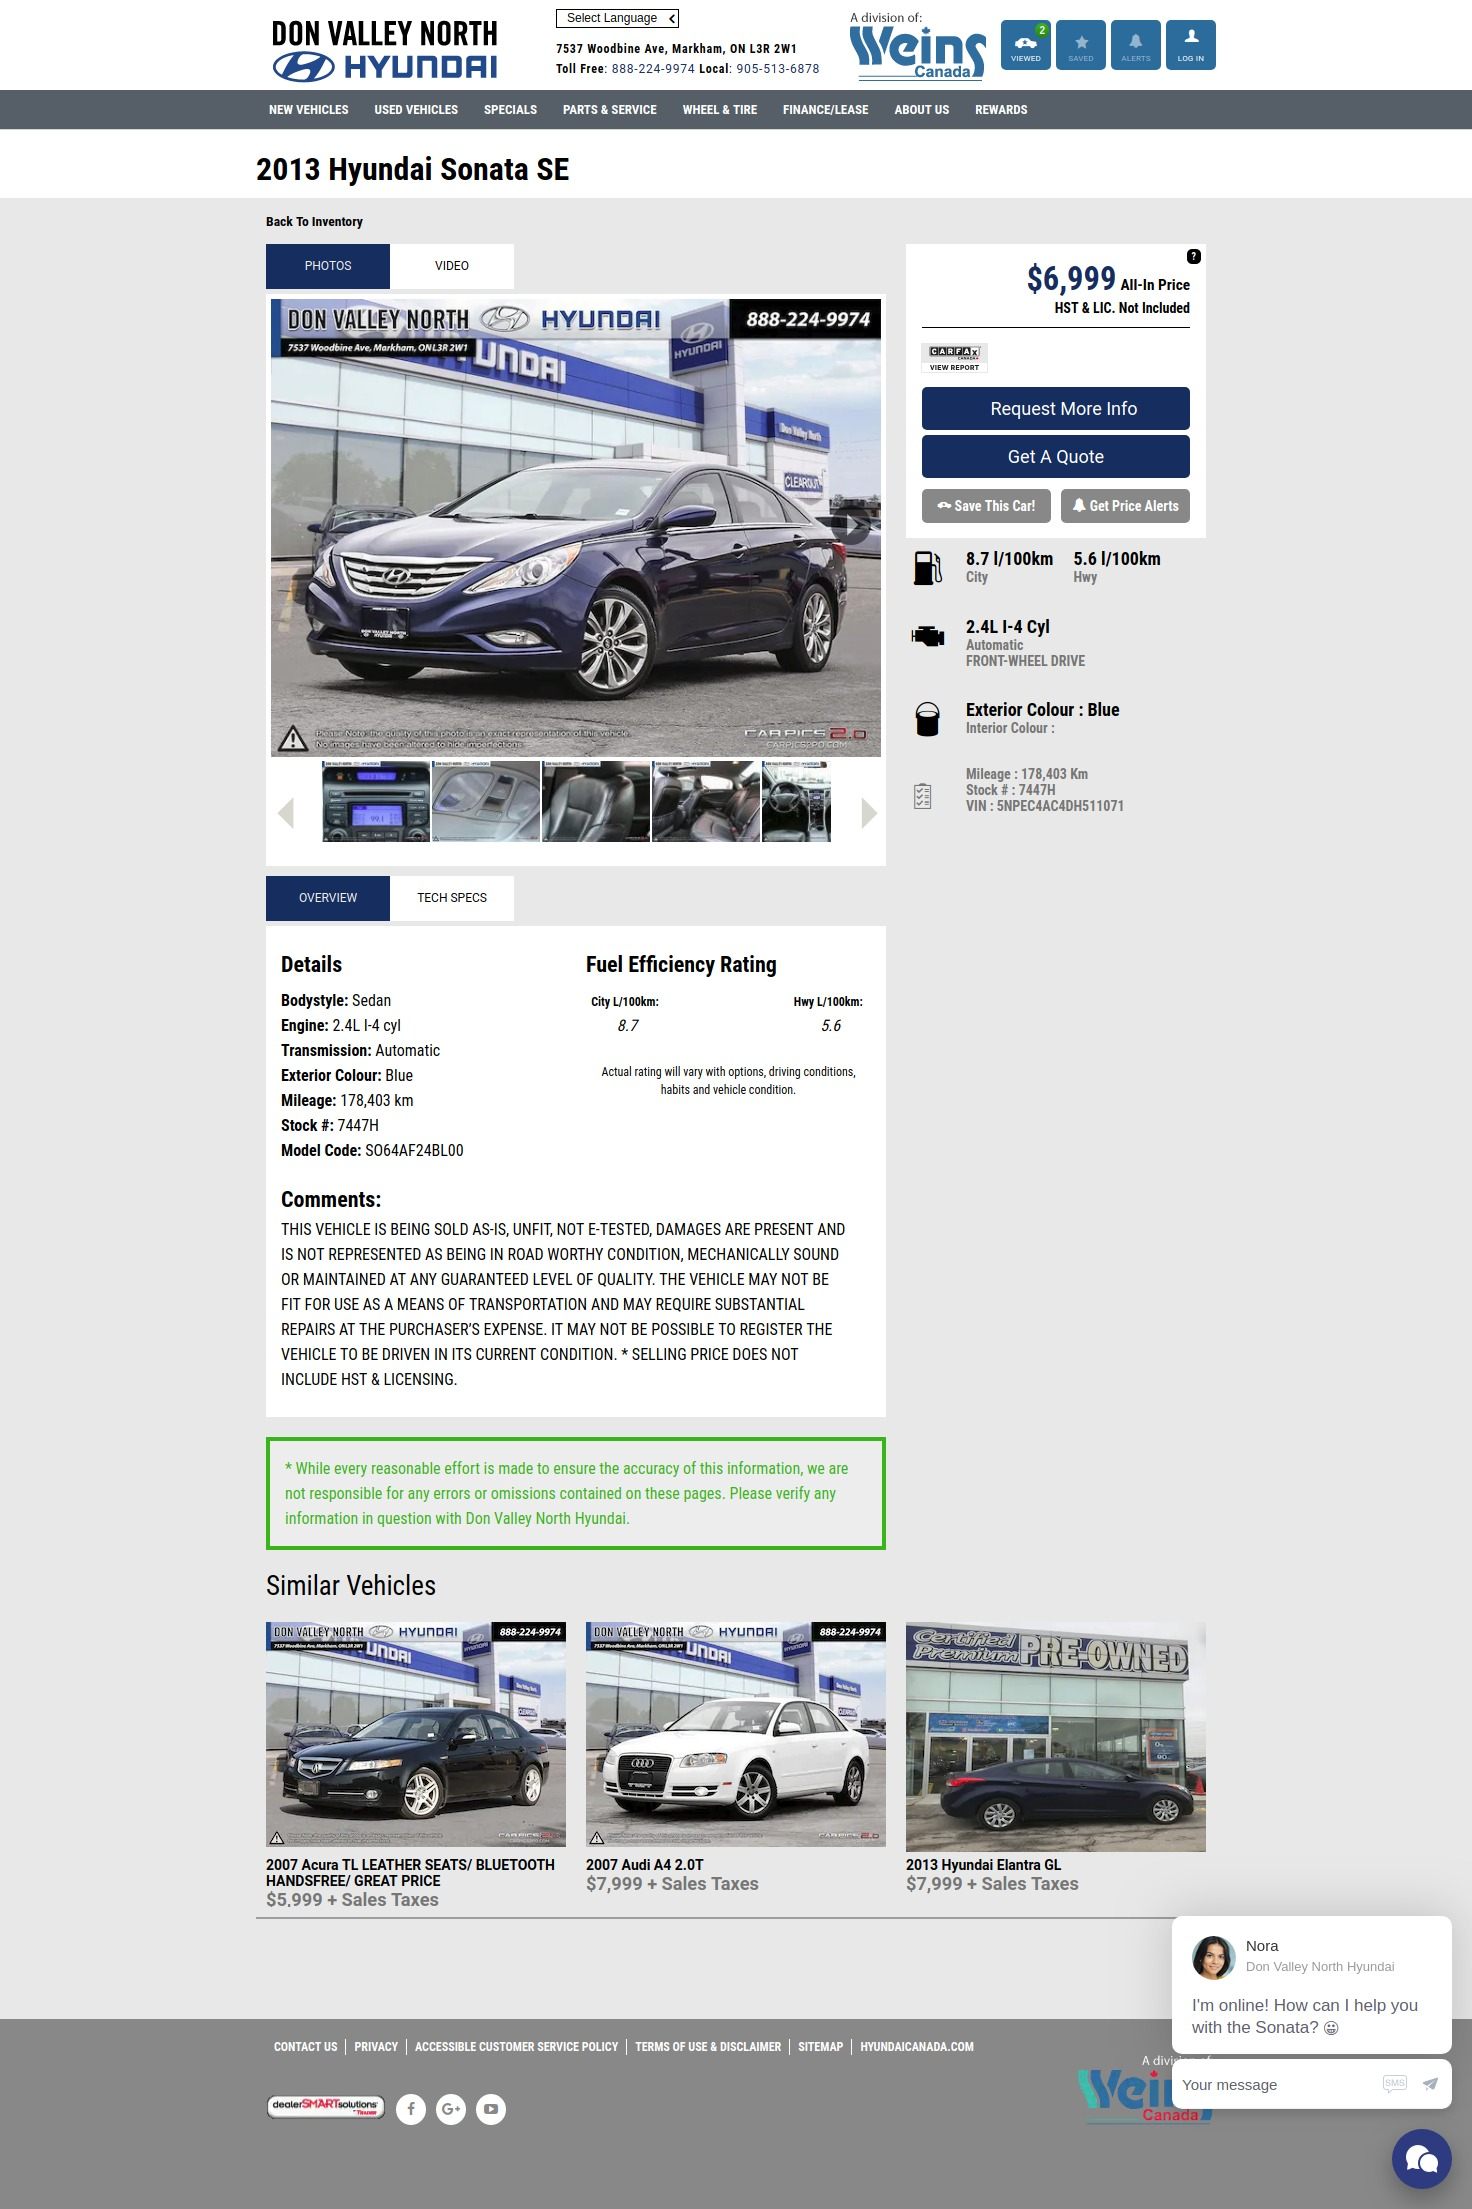car: (861, 798, 877, 829)
